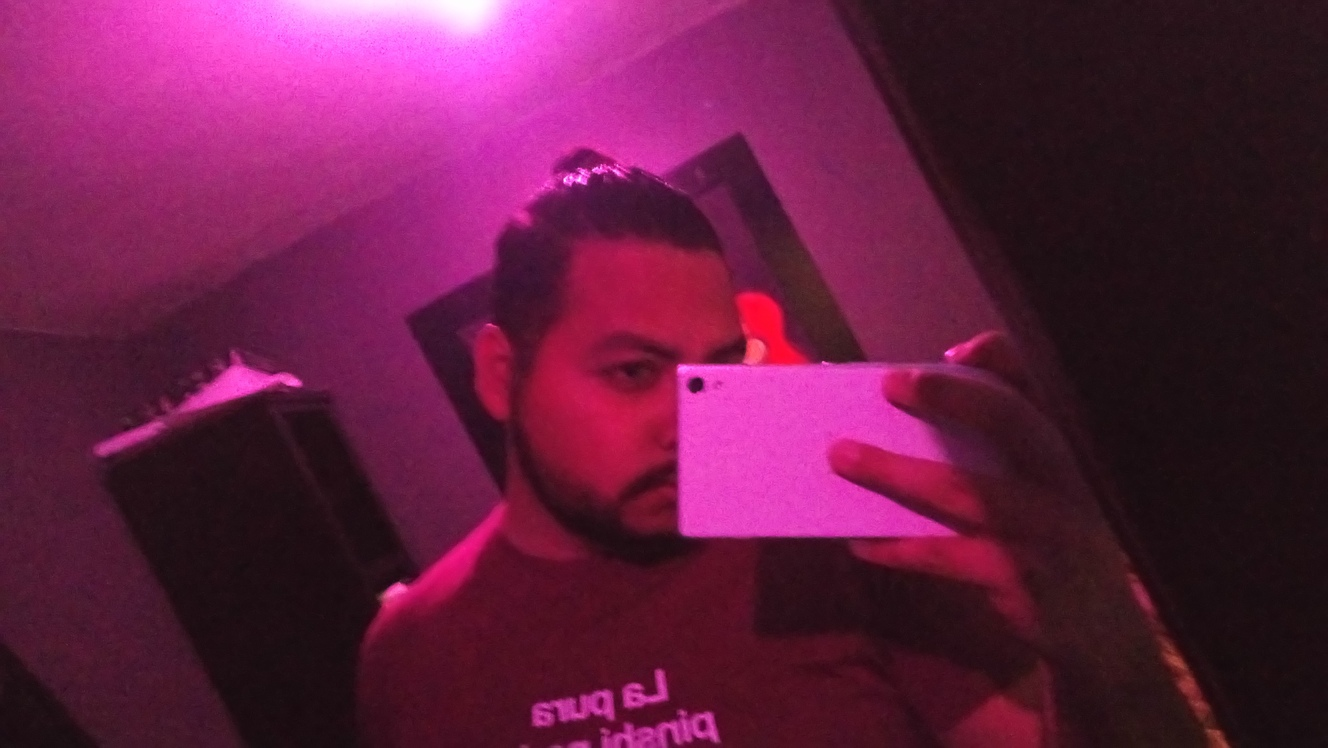Yoshi: (440, 113, 840, 626)
